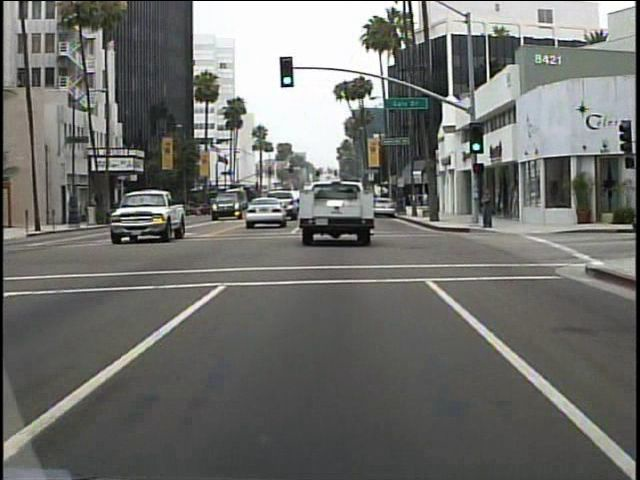person: (477, 179, 496, 232)
